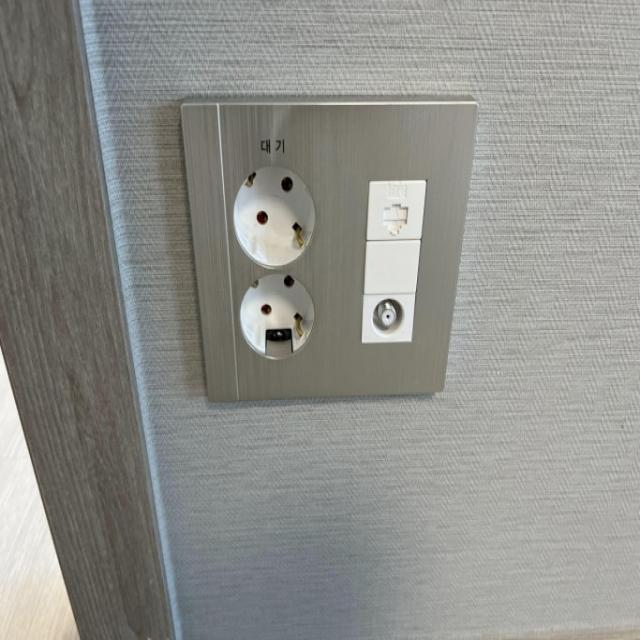typeb: (149, 49, 476, 452)
